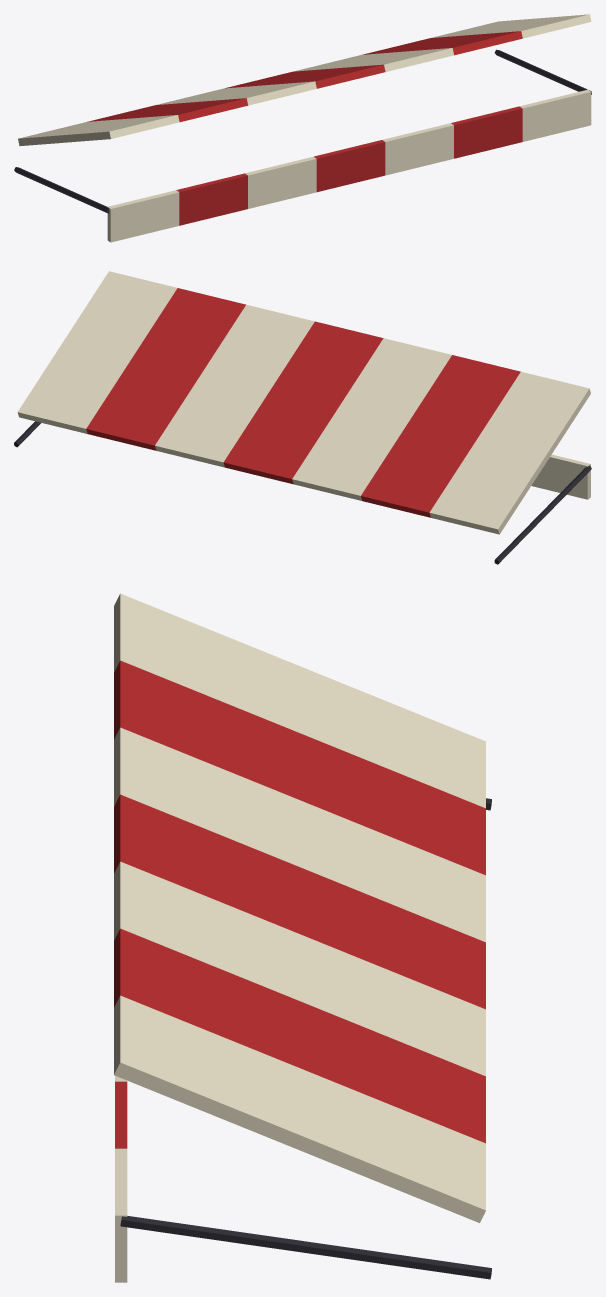
Rendered from awning.glb.
3 renders of one model, top to bottom at view 1: azimuth 30°, elevation 25°; view 2: azimuth 150°, elevation 25°; view 3: azimuth 270°, elevation 25°, orthographic. The views are drawn at different scales.
Visible parts, largest first — view 1: awning; view 2: awning; view 3: awning.
Boxes of the visible parts, <box> form: awning: <box>14,14,591,242</box>; awning: <box>14,271,591,564</box>; awning: <box>114,593,491,1282</box>.
Bounding box in the file's own units: 3.64 × 0.7879 × 1.23.
